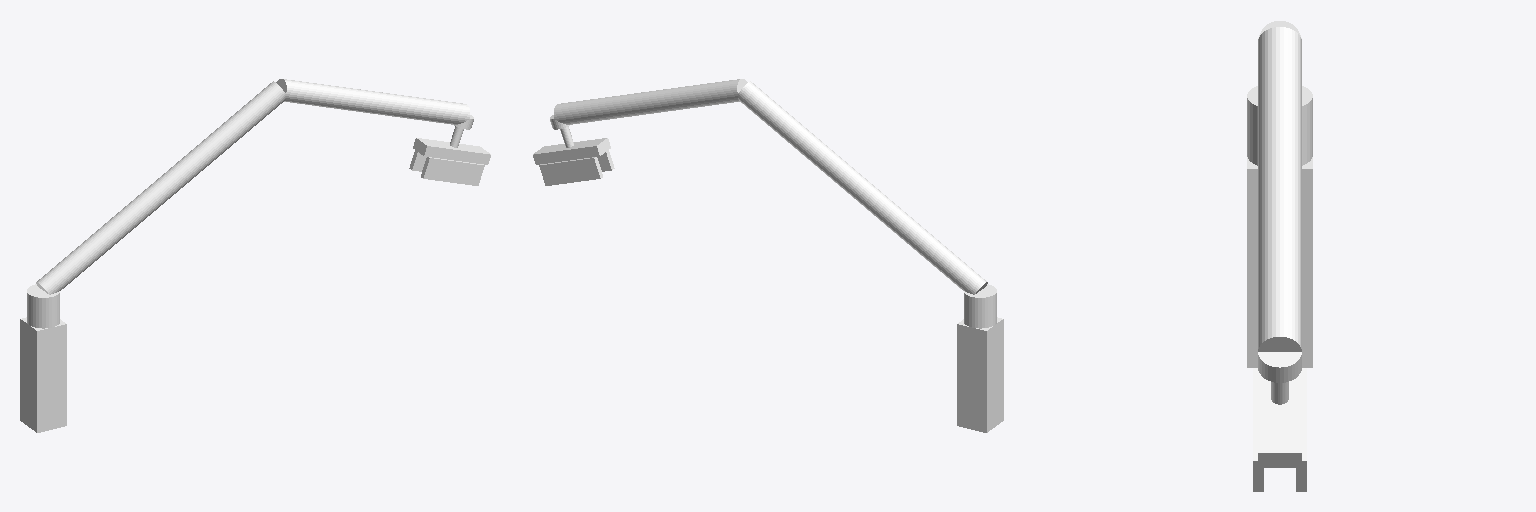
The robot description file, URDF, robot "crane":
<?xml version="1.0"?>
<robot name="crane">

  <material name="white">
    <color rgba="1 1 1 1"/>
  </material>

	<!-- Arm of the crane -->

	<link name="base_link">
		<visual>
			<geometry>
				<box size="1.5 1.5 5"/>
			</geometry>
			<origin xyz="0 0 2.5"/>
			<material name="white"/>
		</visual>
		<collision>
			<geometry>
				<box size="1.5 1.5 5"/>
			</geometry>
			<origin xyz="0 0 2.5"/>
		</collision>
		
	</link>

	
	<joint name="base_to_link1" type="continuous">
		<axis xyz="0 0 1"/>
		<parent link="base_link"/>
		<child link="link1"/>
		<origin xyz="0 0 5"/>
	</joint>
	
	<link name="link1">
		<visual>
			<geometry>
				<cylinder length="1.5" radius="0.75"/>
			</geometry>
			<origin rpy="0 0 0" xyz="0 0 0.75"/>
			<material name="white"/>
		</visual>
		<collision>
			<geometry>
				<cylinder length="1.5" radius="0.75"/>
			</geometry>
			<origin rpy="0 0 0" xyz="0 0 0.75"/>
		</collision>
	</link>
	
	<joint name="link1_to_link2" type="revolute">
		<axis xyz="0 0 1"/>
		<limit effort="1000" upper="-0.175"  lower= "-0.873" velocity="1"/>
		<parent link="link1"/>
		<child link="link2"/>
		<origin rpy="-1.5707963 0 0" xyz="0 0 1.5"/>
	</joint>
	
  
	<link name="link2">
		<visual>
			<geometry>
				<cylinder length="12" radius="0.5"/>
			</geometry>
			<origin rpy="0 -1.5707963 0" xyz="6 0 0"/>
			<material name="white"/>
		</visual>
		<collision>
			<geometry>
				<cylinder length="12" radius="0.5"/>
			</geometry>
			<origin rpy="0 -1.5707963 0" xyz="6 0 0"/>
		</collision>
	</link>
	
	<joint name="Link2_to_link3" type="revolute">
		<axis xyz="0 0 1"/>
		<limit effort="1000" lower="0" upper = "1.5707963" velocity="1"/>
		<parent link="link2"/>
		<child link="link3"/>
		<origin xyz="12 0 0"/>
	</joint>
	
	<link name="link3">
		<visual>
			<geometry>
				<cylinder length="2" radius="0.5"/>
			</geometry>
			<origin rpy="0 -1.5707963 0" xyz="1 0 0"/>
			<material name="white"/>
		</visual>
		<collision>
			<geometry>
				<cylinder length="2" radius="0.5"/>
			</geometry>
			<origin rpy="0 -1.5707963 0" xyz="1 0 0"/>
		</collision>
	</link>

	<joint name ="Link3_to_Link4" type="revolute">
		<axis xyz="0 0 1"/>
		<limit effort="1000" lower="0.175" upper="1.5707963" velocity = "1"/>
		<parent link="link3"/>
		<child link="link4"/>
		<origin xyz="2 0 0"/>
	</joint>
	
	<link name ="link4">
		<visual>
			<geometry>
				<cylinder length="10" radius="0.5"/>
			</geometry>
			<origin rpy="0 -1.5707936 0" xyz="5 0 0"/>
			<material name="white"/>
		</visual>
		<collision>
			<geometry>
				<cylinder length="10" radius="0.5"/>
			</geometry>
			<origin rpy="0 -1.5707936 0" xyz="5 0 0"/>
		</collision>
	</link>
	
	<joint name="Link4_to_Link5" type="revolute">
		<axis xyz="0 0 1"/>
		<limit effort="1000" lower="-3.14" upper ="0.23" velocity="1"/>
		<parent link="link4"/>
		<child link="link5"/>
		<origin xyz="10 0 0"/>
	</joint>
	
	<link name="link5">
		<visual>
			<geometry>
				<cylinder length="0.5" radius="0.5"/>
			</geometry>
			<origin rpy="-1.5707936 -1.5707936 0" xyz="0 0.25 0"/>
			<material name="white"/>
		</visual>
		<collision>
			<geometry>
				<cylinder length="0.5" radius="0.5"/>
			</geometry>
			<origin rpy="-1.5707936 -1.5707936 0" xyz="0 0.25 0"/>
		</collision>
	</link>

	<joint name="link5_to_link6" type="continuous">
		<axis xyz="0 0 1"/>
		<parent link="link5"/>
		<child link="link6"/>
		<origin rpy="-1.5707936 0 0" xyz="0 0.5 0"/>
	</joint>
	
	<link name="link6">
		<visual>
			<geometry>
				<cylinder length="1.0" radius="0.2"/>
			</geometry>
			<origin xyz="0 0 0.5"/>
			<material name="white"/>
		</visual>
		<collision>
			<geometry>
				<cylinder length="1.0" radius="0.2"/>
			</geometry>
			<origin xyz="0 0 0.5"/>
		</collision>
	</link>
	
	<joint name="link6_to_link7" type="revolute">
		<axis xyz="0 1 0"/>
		<limit effort="1000" lower="-0.05" upper ="0.05" velocity="1"/>
		<parent link="link6"/>
		<!-- <child link="link7"/> -->
		<child link="gripper_base" />
		<origin xyz="0 0 1"/>
	</joint>
<!-- 
	<link name = "link7" />

    <joint name="link7_to_gripper" type="fixed">
        <parent link="link7" />
        <child link="gripper_base" />
        <origin rpy="0 0 0" xyz="0 0 0" />
    </joint> -->
	<!-- Start of gripper -->

	<link name="gripper_base">
		<visual>
			<geometry>
				<box size="3.5 1 0.5"/>
			</geometry>
			<origin xyz="0 0 0.25"/>
			<material name="white"/>
		</visual>
		<collision>
			<geometry>
				<box size="3.5 1 0.5"/>
			</geometry>
			<origin xyz="0 0 0.25"/>
		</collision>
	</link>
	
	<!-- Gripper in the front -->
	
	<joint name="gbase_to_lg" type="prismatic">
		<axis xyz="0 1 0"/>
		<limit effort="1000" lower="0" upper ="0.25" velocity="1"/>
		<parent link="gripper_base"/>
		<child link="lgripper"/>
		<origin  xyz="0 -0.5 0.5"/>
	</joint>

	<link name="lgripper">
		<visual>
			<geometry>
				<box size="3 0.25 1"/>
			</geometry>
			<origin xyz="0 0 0.5"/>
			<material name="white"/>
		</visual>
		<collision>
			<!-- <geometry>
				<box size="1 0.15 0.5"/>
			</geometry>
			<origin xyz="0.5 0 0"/> -->
			<geometry>
				<box size="3 0.25 1"/>
			</geometry>
			<origin xyz="0 0 0.5"/>			
		</collision>
	</link>

	

	<joint name="gbase_to_rg" type="prismatic">
		<axis xyz="0 -1 0"/>
		<limit effort="1000" lower="0" upper ="0.25" velocity="1"/>
		<parent link="gripper_base"/>
		<child link="rgripper"/>
		<origin xyz="0 0.5 0.5"/>
	</joint>

	<link name="rgripper">
		<visual>
			<geometry>
				<box size="3 0.25 1"/>
			</geometry>
			<origin xyz="0 0 0.5"/>
			<material name="white"/>
		</visual>
		<collision>
			<!-- <geometry>
				<box size="0.15 1 0.5"/>
			</geometry>
			<origin xyz="0 0.5 0"/> -->
			<geometry>
				<box size="3 0.25 1"/>
			</geometry>
			<origin xyz="0 0 0.5"/>			
		</collision>
	</link>
</robot>

--- Facts derived from the render (not from the file) ---
The picture shows the robot from 3 angles, left to right: view 1: azimuth 30°, elevation 25°; view 2: azimuth 150°, elevation 25°; view 3: azimuth 270°, elevation 25°; orthographic projection.
Model crane with 10 links and 9 joints (5 revolute, 2 continuous, 2 prismatic), rooted at base_link, posed joints at zero except 2 at the middle of their limits (link1_to_link2 = -0.524, Link3_to_Link4 = 0.8729).
Visible links, largest first — view 1: link2, base_link, link4, rgripper, gripper_base, link1, link3; view 2: link2, base_link, link4, lgripper, gripper_base, link1, link3; view 3: link4, base_link, gripper_base, link1, link5, lgripper, rgripper.
Boxes of the visible links, <box> form: link2: <box>36,110,253,294</box>; base_link: <box>20,317,66,432</box>; link4: <box>276,79,469,124</box>; rgripper: <box>421,157,484,185</box>; gripper_base: <box>413,138,490,164</box>; link1: <box>27,284,59,328</box>; link3: <box>240,81,285,125</box>; link2: <box>770,110,987,294</box>; base_link: <box>957,317,1003,432</box>; link4: <box>554,79,747,124</box>; lgripper: <box>539,157,602,185</box>; gripper_base: <box>533,138,610,164</box>; link1: <box>964,284,996,328</box>; link3: <box>738,81,783,125</box>; link4: <box>1258,27,1301,351</box>; base_link: <box>1247,157,1312,367</box>; gripper_base: <box>1258,371,1301,467</box>; link1: <box>1247,86,1312,165</box>; link5: <box>1258,352,1301,382</box>; lgripper: <box>1296,368,1306,491</box>; rgripper: <box>1253,368,1263,491</box>.
Size in the robot's own frame: 23.4 by 1.5 by 13.97 metres.
Geometry: primitives only (box / cylinder / sphere), no mesh files.